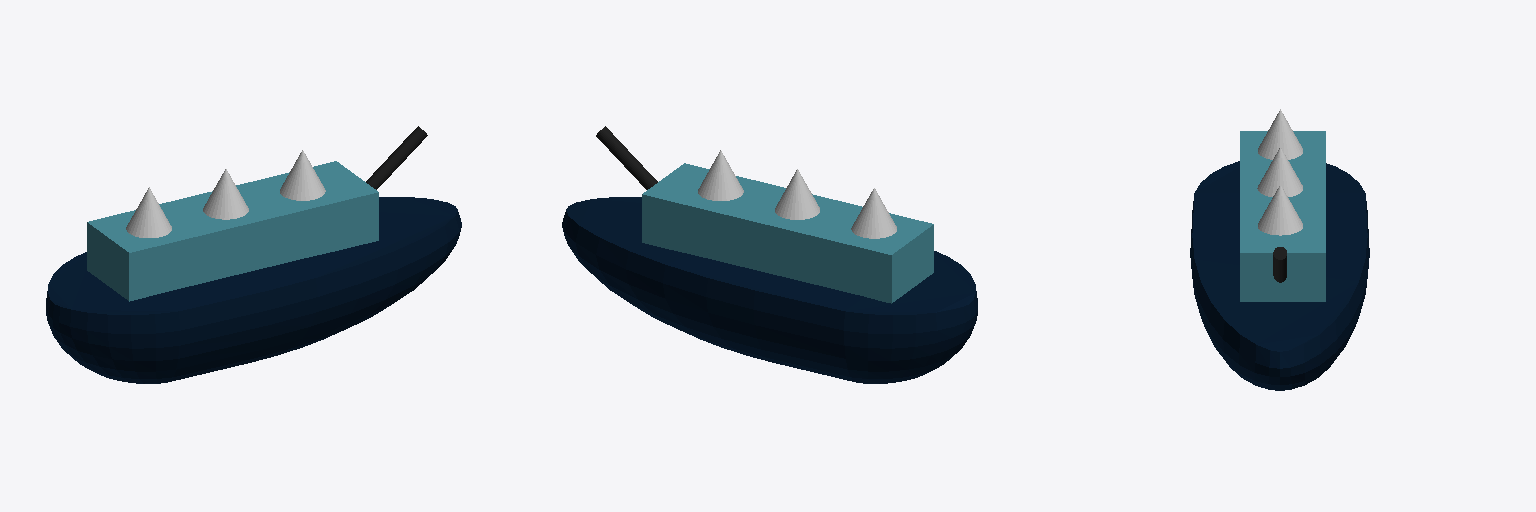
The model's file is coastguard.obj.
The picture shows the model from 3 angles: view 1: azimuth 30°, elevation 25°; view 2: azimuth 150°, elevation 25°; view 3: azimuth 270°, elevation 25°; orthographic projection.
Visible parts, largest first — view 1: Sphere, Cube_Cube.001, Cone, Cone.001, Cone.002, Cylinder; view 2: Sphere, Cube_Cube.001, Cone.002, Cone, Cone.001, Cylinder; view 3: Sphere, Cube_Cube.001, Cone, Cone.002, Cone.001.
Part boxes in pixels (x1,y1,x2,y2): Sphere: (46,197,461,383); Cube_Cube.001: (87,161,378,301); Cone: (280,150,325,200); Cone.001: (203,169,248,219); Cone.002: (126,187,171,237); Cylinder: (366,126,427,189); Sphere: (562,197,977,383); Cube_Cube.001: (642,163,933,303); Cone.002: (851,188,896,238); Cone: (698,150,743,200); Cone.001: (775,169,819,219); Cylinder: (596,126,657,189); Sphere: (1190,161,1369,390); Cube_Cube.001: (1240,131,1325,301); Cone: (1258,184,1302,235); Cone.002: (1258,109,1302,159); Cone.001: (1257,147,1302,196).
Bounding box in the file's own units: 17.57 × 7.83 × 6.72.